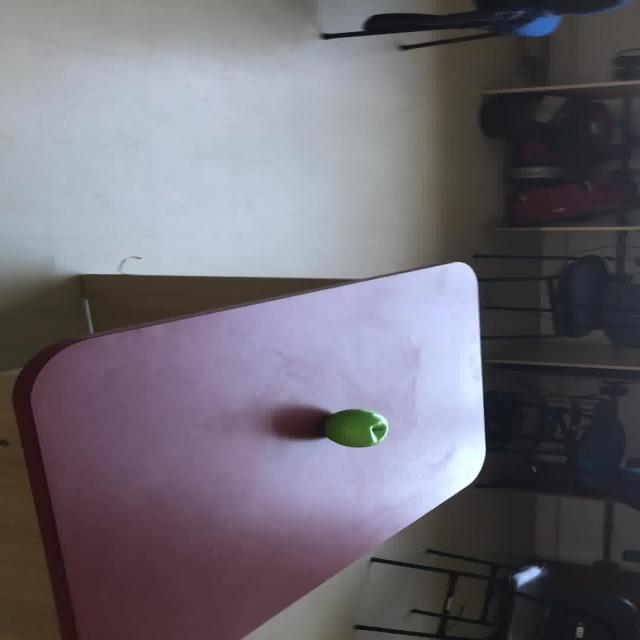apple: (321, 408, 388, 447)
